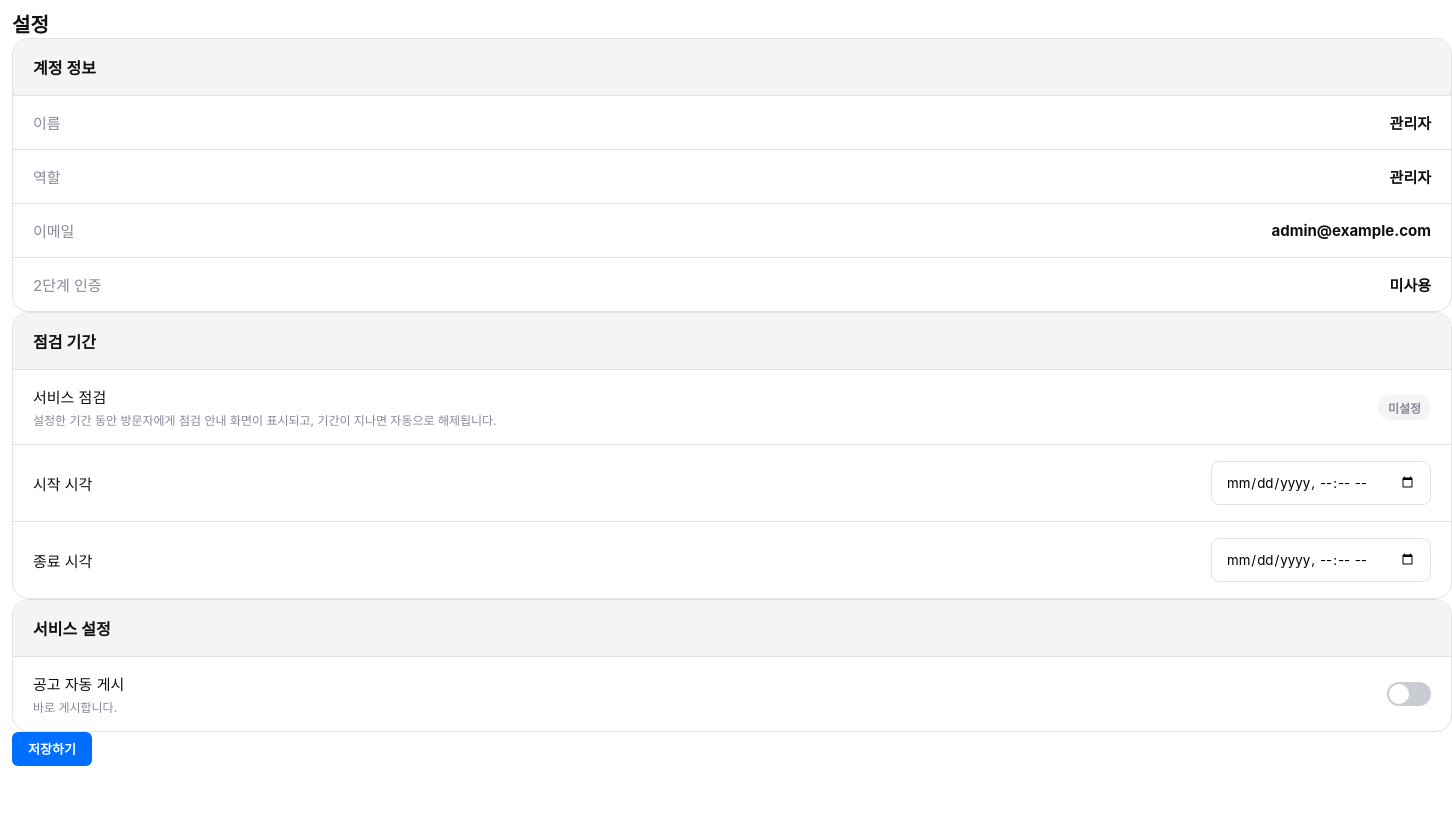
Test: AdminSettingsScreen › 저장 실패 시 에러 토스트를 보여주고 미저장 변경분을 유지한다
Step 1. Type "2099-05-05T01:00" into the field named "점검 시작 시각" → (1321, 483), box left=1211, top=461, right=1431, bottom=505
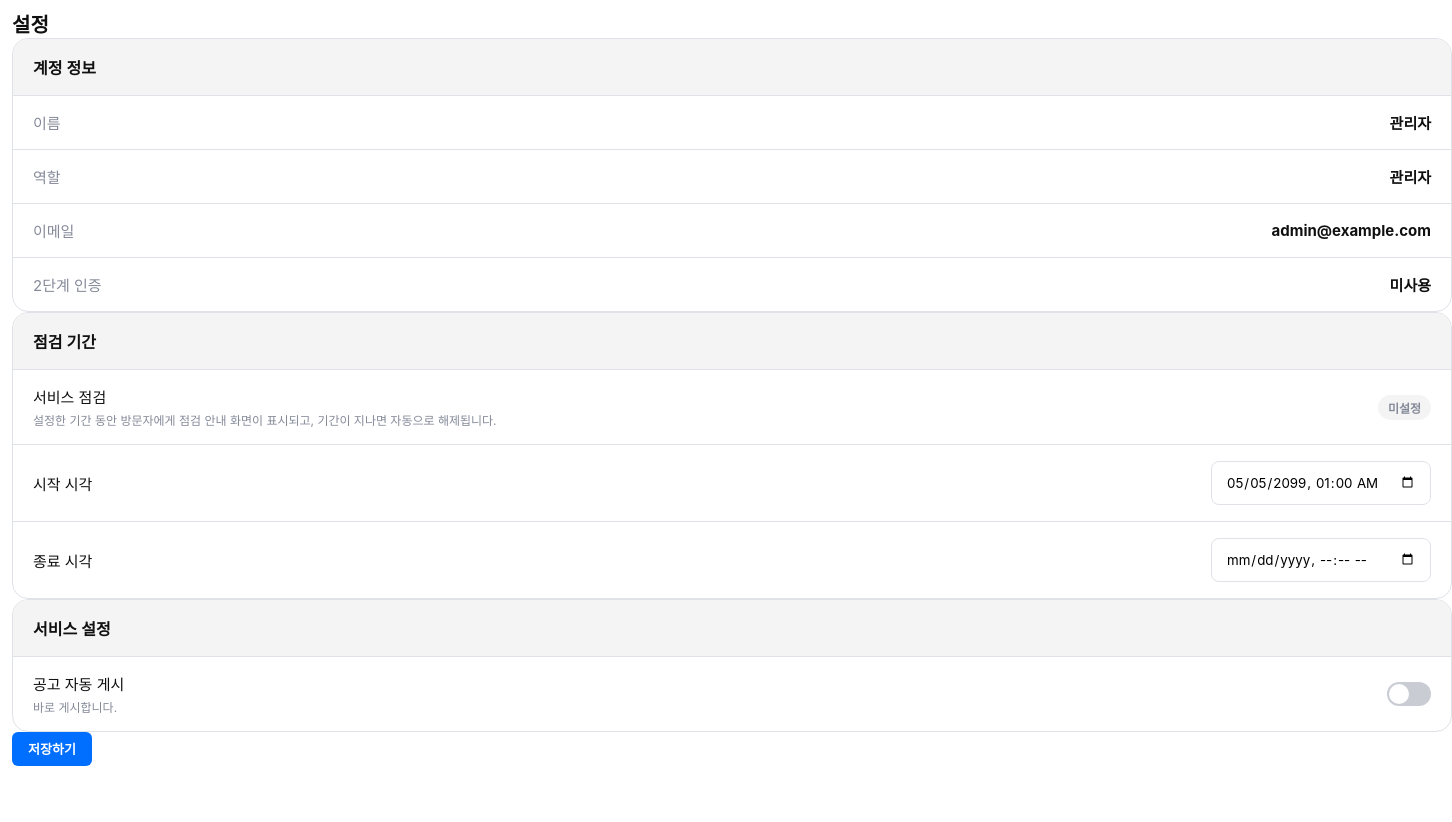
Step 2. Click the button "저장하기" → (52, 749), box left=12, top=732, right=92, bottom=766
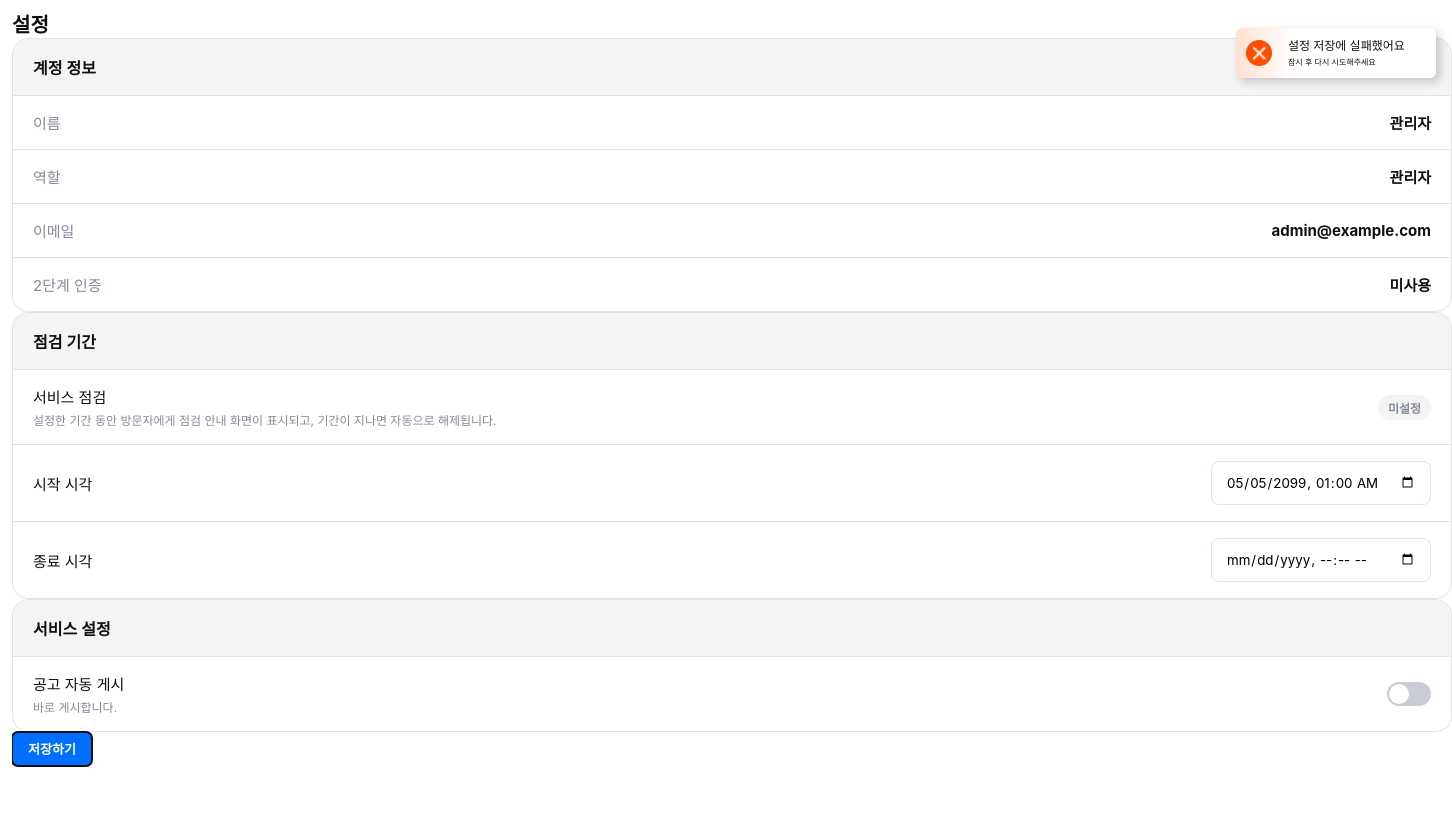
Result: the text "설정 저장에 실패했어요" is shown at left=1288, top=38, right=1405, bottom=55
